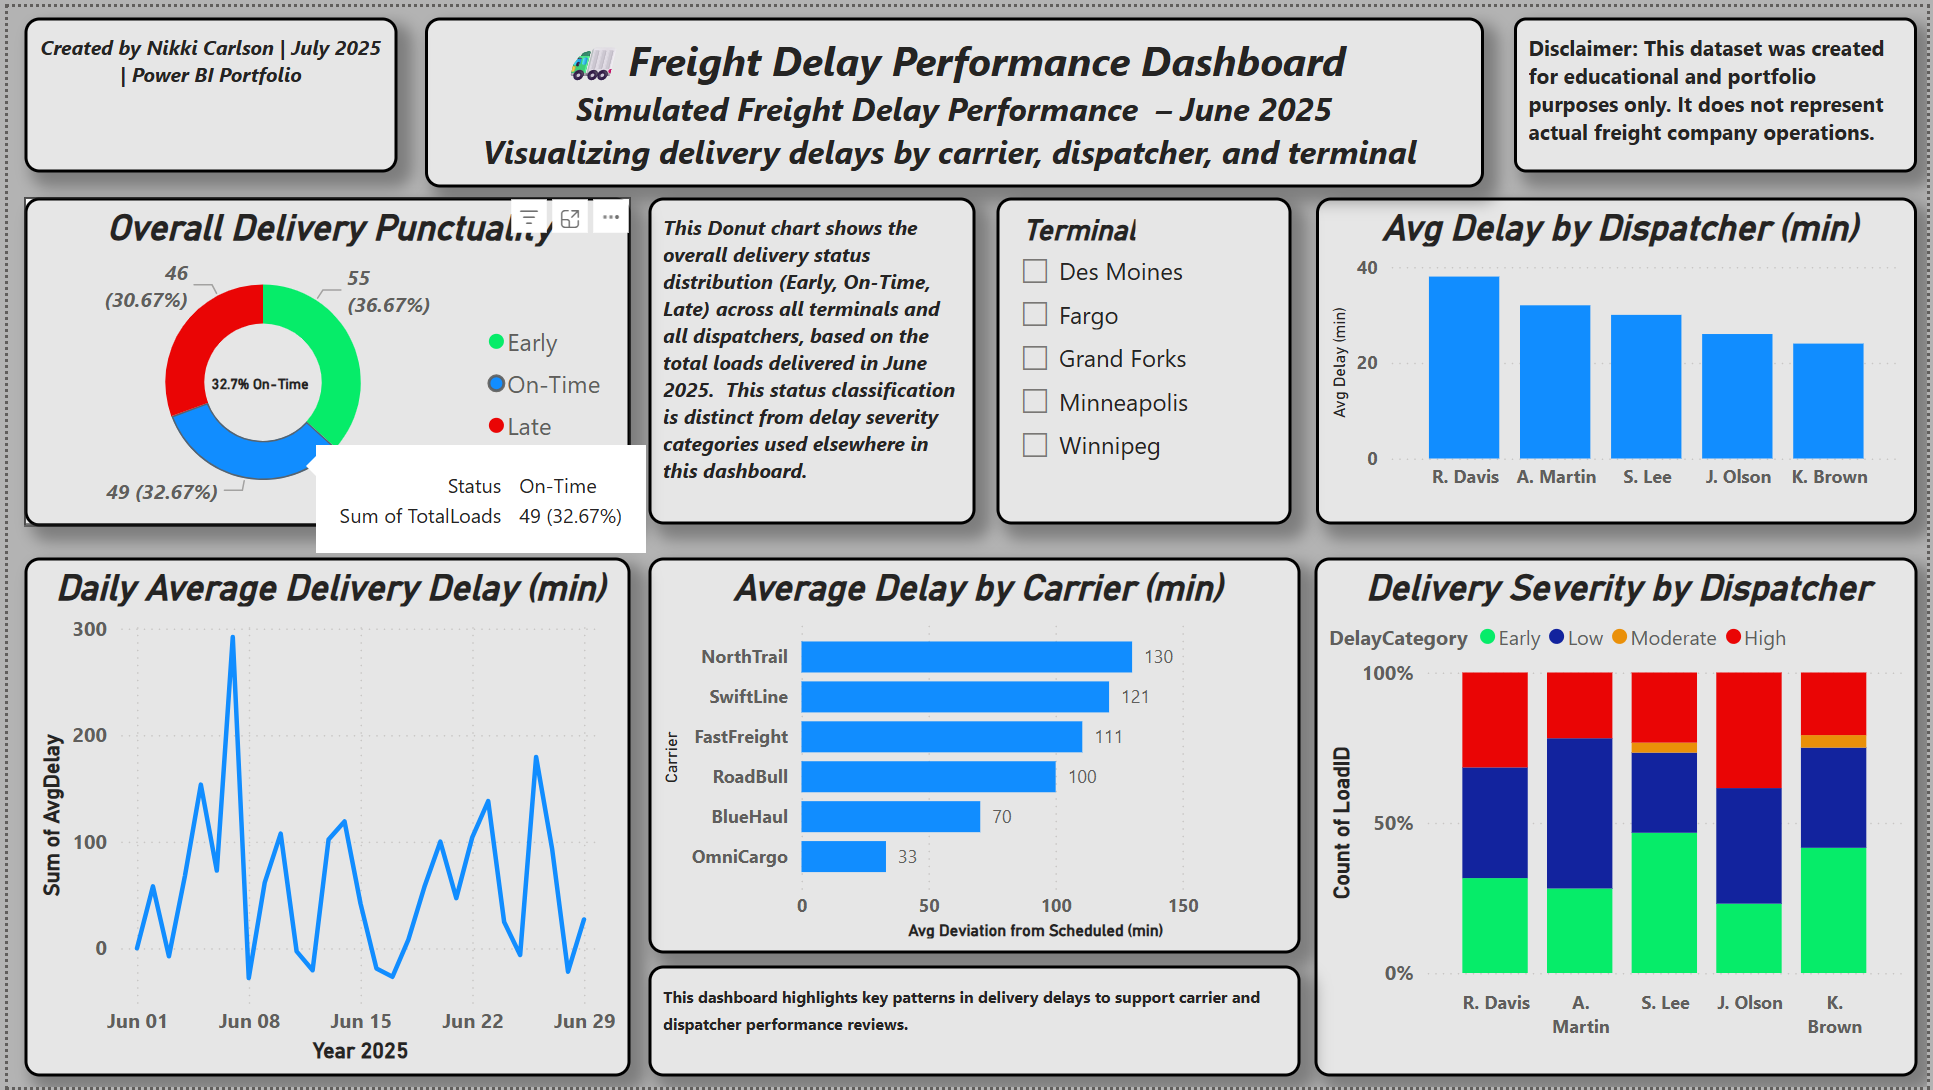

This screenshot's page, from the dashboard's own definition file:
{"tool":"powerbi","page":{"name":"Page 1","canvas":[1280,720],"ordinal":0},"visuals":[{"type":"clusteredBarChart","title":"Average Delay by Carrier (min)","fields":{"Y":["Sum(carrier_delay_summary_dax.AvgDelay)"],"Category":["carrier_delay_summary_dax.Carrier"]},"box":[427.1,366.7,434.6,264.4],"z":0},{"type":"clusteredColumnChart","title":"Avg Delay by Dispatcher (min)","fields":{"Category":["dispatcher_delay_summary_dax.Dispatcher"],"Y":["Sum(dispatcher_delay_summary_dax.TotalLoads)"]},"box":[871.7,126.6,401.6,218.9],"z":1000},{"type":"lineChart","title":"Daily Average Delivery Delay (min)","fields":{"Category":["daily_delay_trend_dax.DeliveryDate.Variation.Date Hierarchy.Year","daily_delay_trend_dax.DeliveryDate.Variation.Date Hierarchy.Quarter","daily_delay_trend_dax.DeliveryDate.Variation.Date Hierarchy.Month","daily_delay_trend_dax.DeliveryDate.Variation.Date Hierarchy.Day"],"Y":["Sum(daily_delay_trend_dax.AvgDelay)"]},"box":[10.6,366.7,404.1,346.1],"z":2000},{"type":"textbox","box":[278.1,6.9,705.9,112.9],"z":3000},{"type":"hundredPercentStackedColumnChart","title":"Delivery Severity by Dispatcher","fields":{"Category":["freight_delay_data.Dispatcher"],"Y":["CountNonNull(freight_delay_data.LoadID)"],"Series":["DelayCategoryLookup.DelayCategory"]},"box":[871.1,366.7,402.2,346.1],"z":4000},{"type":"textbox","box":[427.1,126.6,217.6,218.9],"z":5000},{"type":"textbox","box":[1003.9,6.9,269.4,102.9],"z":6000},{"type":"slicer","fields":{"Values":["TerminalTable.Terminal"]},"box":[659.1,126.6,197,218.9],"z":7000},{"type":"donutChart","title":"Overall Delivery Punctuality","fields":{"Category":["on_time_breakdown.Status"],"Y":["Sum(on_time_breakdown.TotalLoads)"]},"box":[10.6,126.6,404.1,218.9],"z":7500,"group":"g1"},{"type":"cardVisual","fields":{"Data":["on_time_breakdown.OnTimeLabel"]},"box":[95,215.4,146.5,61.7],"z":7750,"group":"g1"},{"type":"textbox","box":[10.6,6.9,249.4,102.9],"z":8000},{"type":"group","id":"g1","title":"Group 1","box":[10.6,126.6,404.1,218.9],"z":9000},{"type":"textbox","box":[427.1,638.5,434.6,74.2],"z":10000}]}

Visuals, with their boxes in screenshot pixels (x1, y1, x2, y2), scaled from the page's 1280x720 canvas onto the 1933x1090 screenshot:
"Average Delay by Carrier (min)" clusteredBarChart: pyautogui.locateOnScreen(645, 555, 1301, 955)
"Avg Delay by Dispatcher (min)" clusteredColumnChart: pyautogui.locateOnScreen(1316, 192, 1923, 523)
"Daily Average Delivery Delay (min)" lineChart: pyautogui.locateOnScreen(16, 555, 626, 1079)
textbox: pyautogui.locateOnScreen(420, 10, 1486, 181)
"Delivery Severity by Dispatcher" hundredPercentStackedColumnChart: pyautogui.locateOnScreen(1315, 555, 1923, 1079)
textbox: pyautogui.locateOnScreen(645, 192, 974, 523)
textbox: pyautogui.locateOnScreen(1516, 10, 1923, 166)
slicer - TerminalTable.Terminal: pyautogui.locateOnScreen(995, 192, 1293, 523)
"Overall Delivery Punctuality" donutChart: pyautogui.locateOnScreen(16, 192, 626, 523)
cardVisual - on_time_breakdown.OnTimeLabel: pyautogui.locateOnScreen(143, 326, 365, 419)
textbox: pyautogui.locateOnScreen(16, 10, 393, 166)
"Group 1" group: pyautogui.locateOnScreen(16, 192, 626, 523)
textbox: pyautogui.locateOnScreen(645, 967, 1301, 1079)
